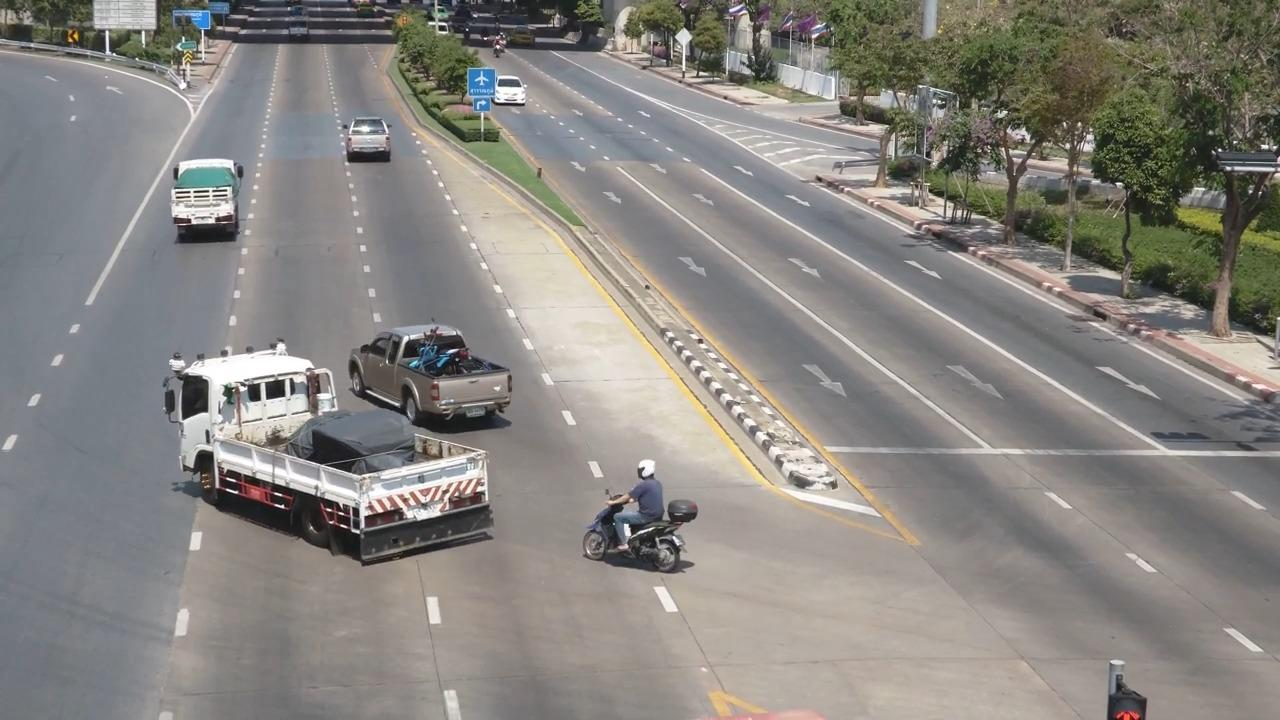CAR: (152, 343, 508, 568), (347, 306, 546, 421), (147, 144, 270, 268), (326, 105, 413, 192), (281, 3, 326, 46)
MOTOR: (571, 445, 733, 583)
